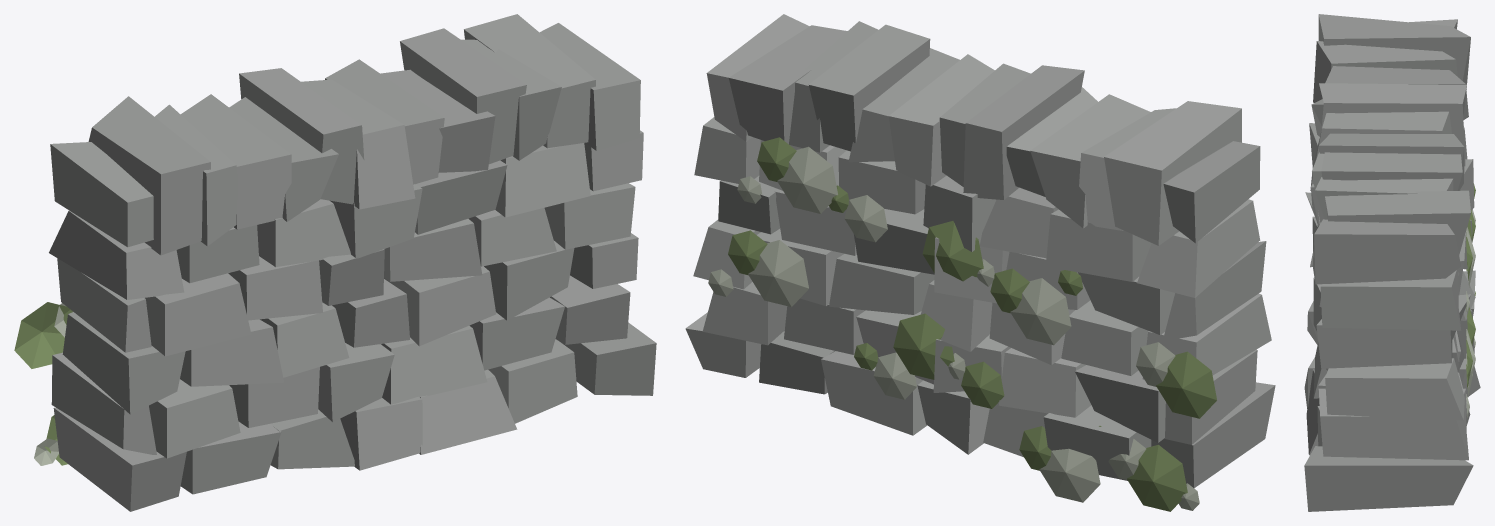
File: stone-wall-v1.glb
3 renders of one model, left to right at view 1: azimuth 30°, elevation 25°; view 2: azimuth 150°, elevation 25°; view 3: azimuth 270°, elevation 25°, orthographic. The views are drawn at different scales.
Parts seen in each view (by area): view 1: capstones, joint-growth; view 2: capstones, joint-growth; view 3: capstones, joint-growth.
Boxes of the visible parts, x1,y1,x2,y2 form: capstones: (49, 14, 656, 511); joint-growth: (14, 302, 73, 465); capstones: (685, 14, 1275, 488); joint-growth: (708, 137, 1216, 511); capstones: (1304, 14, 1480, 511); joint-growth: (1466, 183, 1475, 418).
Bounding box in the file's own units: 1.28 × 0.8147 × 0.4107.
